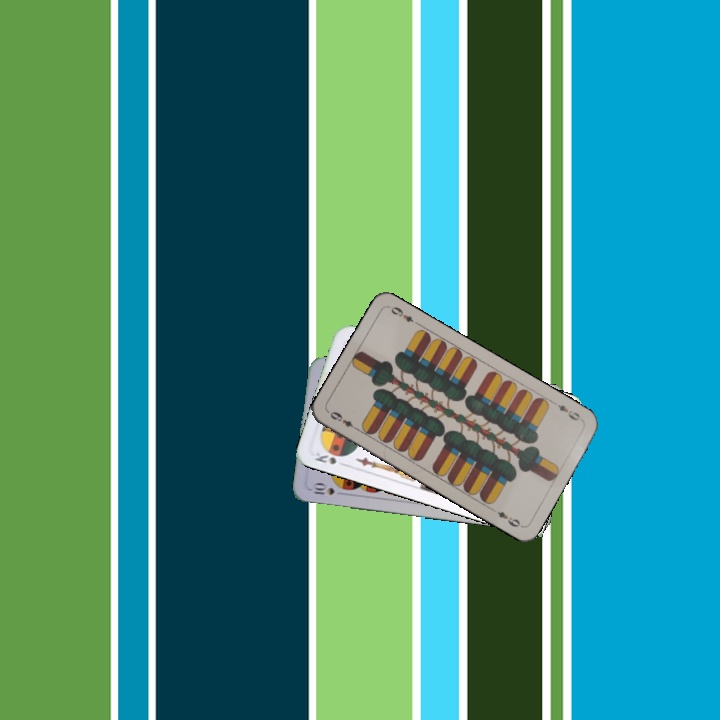E9: (549, 397, 585, 424), (326, 407, 361, 433)
S10: (307, 480, 337, 498)
SK: (311, 448, 350, 469)
